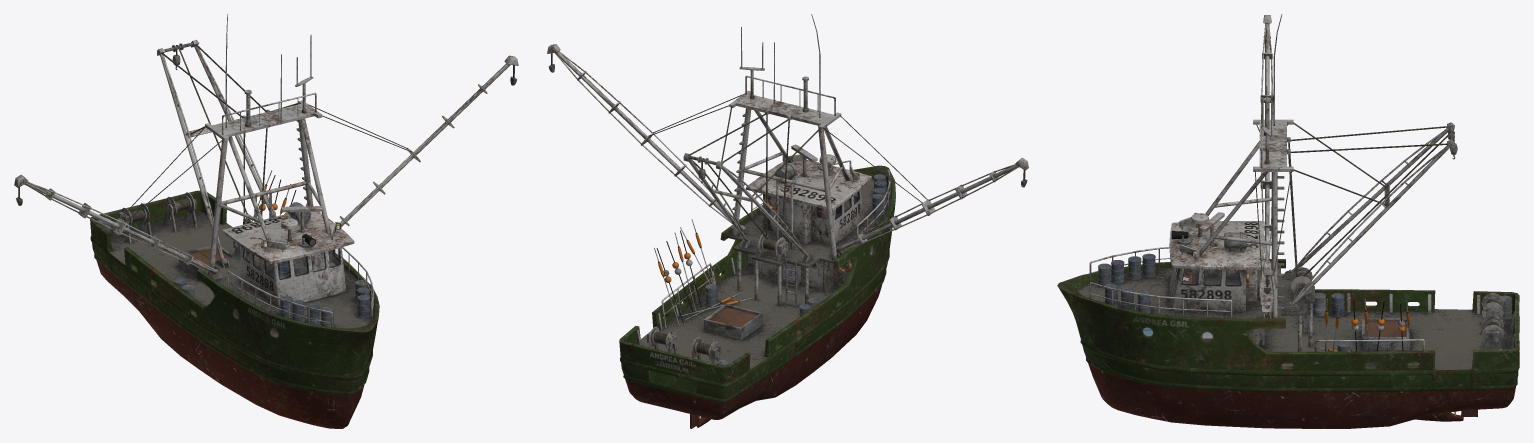
The model's file is boat_fishing.glb.
3 renders of one model, left to right at view 1: azimuth 30°, elevation 25°; view 2: azimuth 150°, elevation 25°; view 3: azimuth 270°, elevation 25°, orthographic. The views are drawn at different scales.
Visible parts, largest first — view 1: Final_Boat_Main_Boat_0_2, Final_Boat_Glass_0_0; view 2: Final_Boat_Main_Boat_0_2; view 3: Final_Boat_Main_Boat_0_2, Final_Boat_Glass_0_0.
Part boxes in pixels (x1,y1,x2,y2): Final_Boat_Main_Boat_0_2: (14, 14, 518, 428); Final_Boat_Glass_0_0: (234, 249, 339, 337); Final_Boat_Main_Boat_0_2: (547, 14, 1028, 428); Final_Boat_Main_Boat_0_2: (1057, 14, 1519, 428); Final_Boat_Glass_0_0: (1143, 268, 1240, 340).
Bounding box in the file's own units: 15.7 × 11.31 × 12.11.
5 materials, 2 textured.
